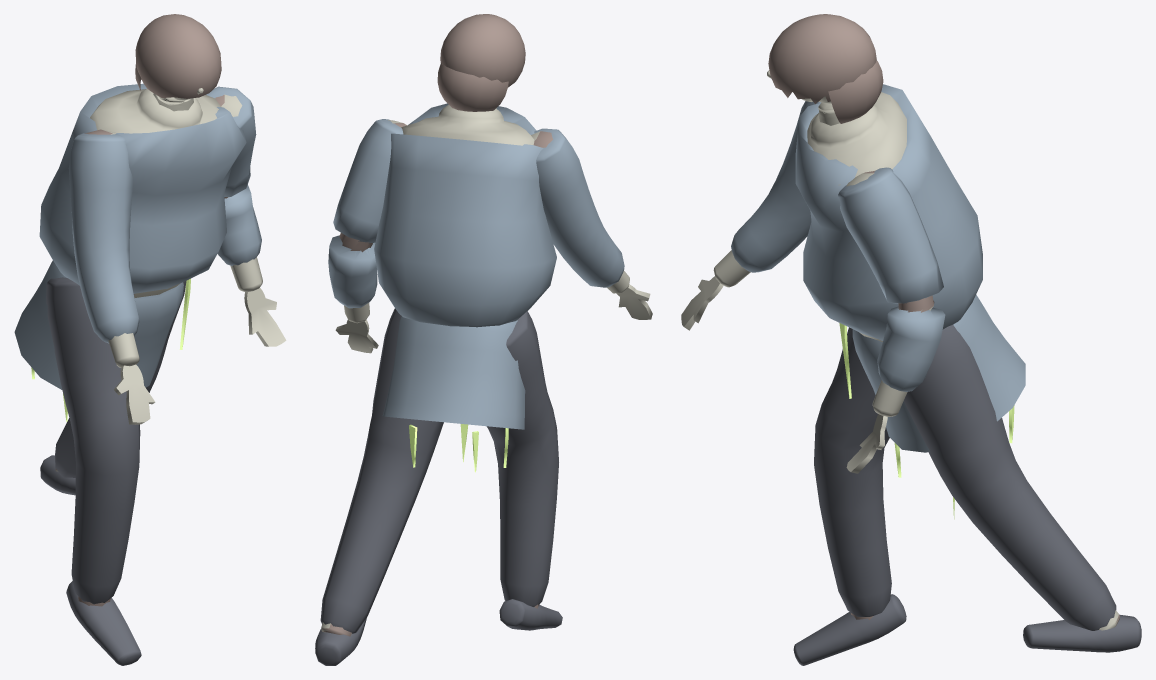
File: undead-horde-and-infected-variants-waterlogged-infecte-0245c329__12008.glb
3 renders of one model, left to right at view 1: azimuth 30°, elevation 25°; view 2: azimuth 150°, elevation 25°; view 3: azimuth 270°, elevation 25°, orthographic. The views are drawn at different scales.
Parts seen in each view (by area): view 1: waterlogged-infected; view 2: waterlogged-infected; view 3: waterlogged-infected.
Part boxes in pixels (left/top/right/bottom): waterlogged-infected: left=14, top=14, right=286, bottom=665; waterlogged-infected: left=315, top=14, right=652, bottom=665; waterlogged-infected: left=681, top=14, right=1141, bottom=665.
Bounding box in the file's own units: 0.6991 × 1.71 × 1.05.
